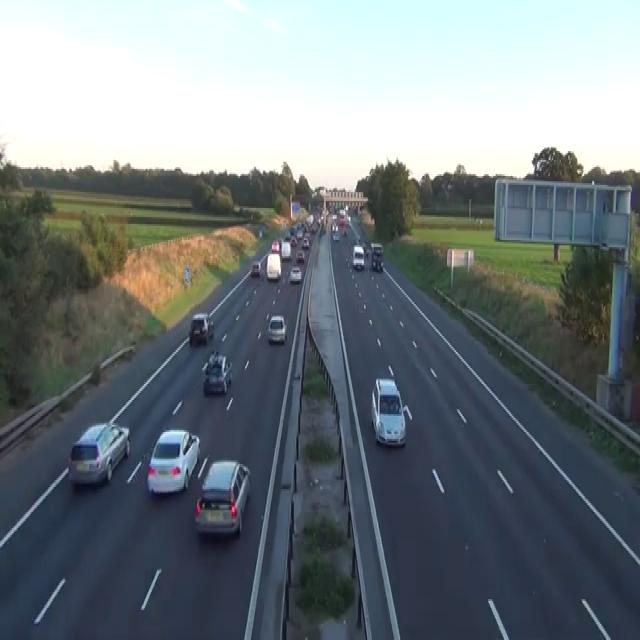Car: (194, 458, 251, 538), (68, 422, 130, 486), (147, 427, 200, 496), (370, 377, 406, 446), (201, 350, 232, 395), (188, 311, 214, 345), (331, 206, 350, 242), (267, 315, 287, 343), (266, 253, 281, 279), (289, 265, 301, 283), (281, 240, 291, 260), (331, 217, 339, 240), (250, 260, 261, 276), (372, 256, 383, 272), (371, 242, 383, 254), (271, 238, 279, 252), (296, 249, 304, 263), (362, 242, 369, 256), (331, 228, 339, 240), (290, 235, 297, 247), (301, 237, 309, 247), (331, 221, 338, 231), (296, 228, 303, 238), (345, 254, 350, 267), (289, 226, 296, 234), (339, 217, 345, 226), (284, 231, 290, 240), (346, 215, 351, 224), (342, 226, 347, 234), (259, 228, 262, 238)
Truck: (370, 242, 383, 272), (352, 244, 364, 268)
